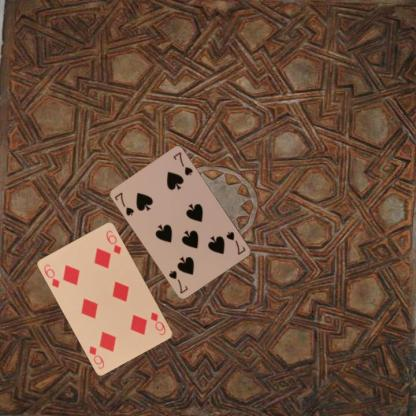6d: (148, 309, 167, 337), (42, 262, 61, 289)
7s: (112, 190, 136, 217), (224, 229, 247, 256)
